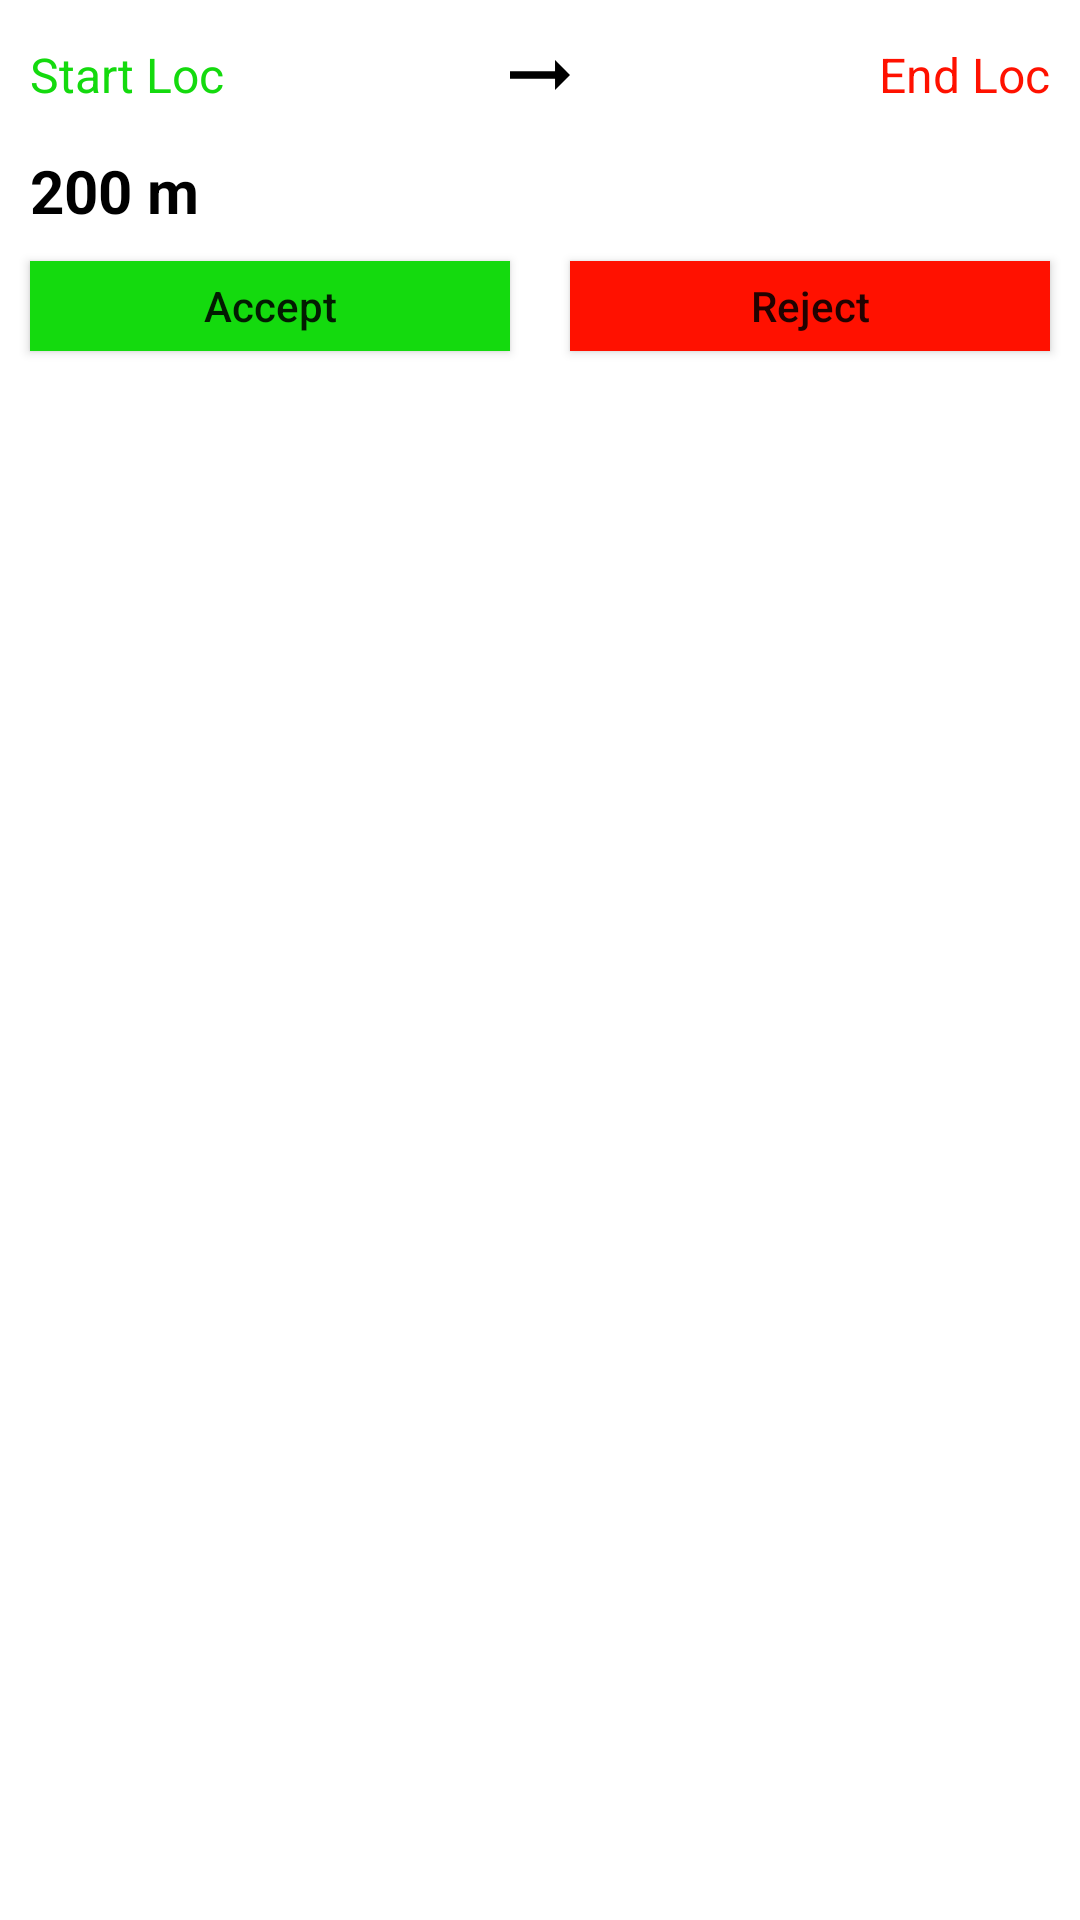

Icon click points for this 1080px×1920px phone screenshot, format (x,y):
arrow: (540,75)
